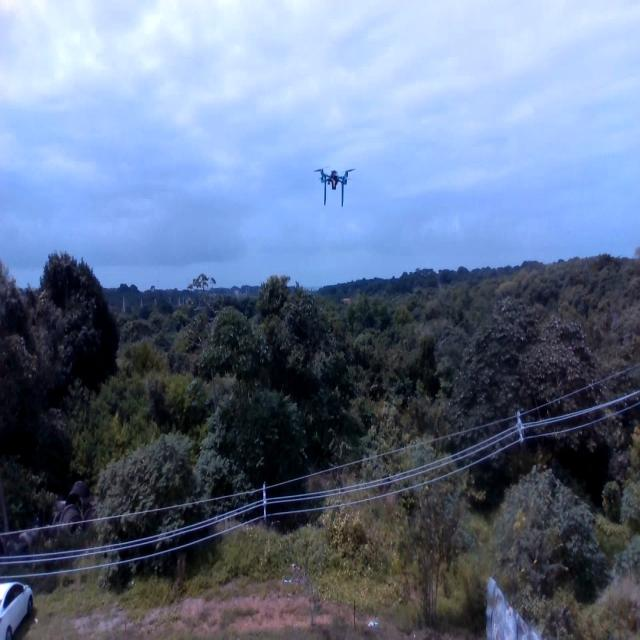-uav-: (312, 150, 358, 210)
